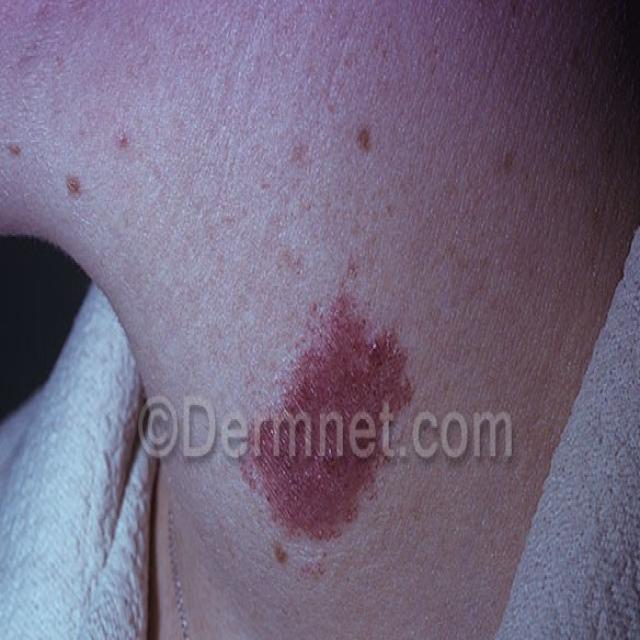Vascular Tumors: (242, 281, 405, 555), (2, 125, 109, 230), (262, 121, 316, 269), (341, 94, 388, 160)
